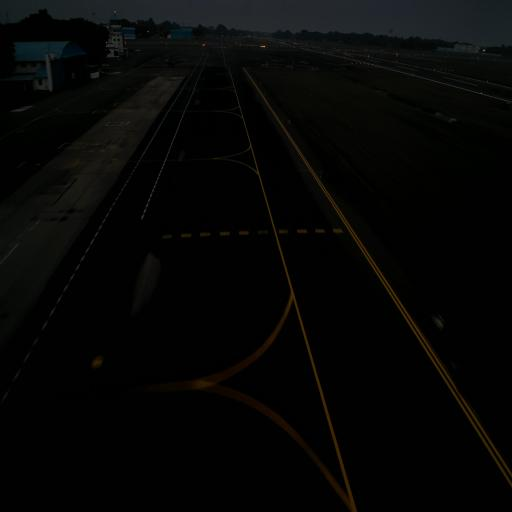on: (435, 310, 447, 325), (288, 116, 291, 124)
